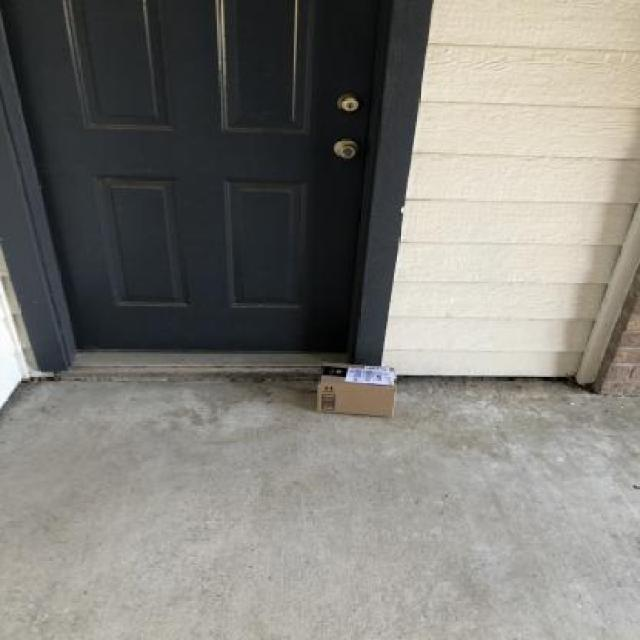cardboxes: (308, 358, 408, 420)
